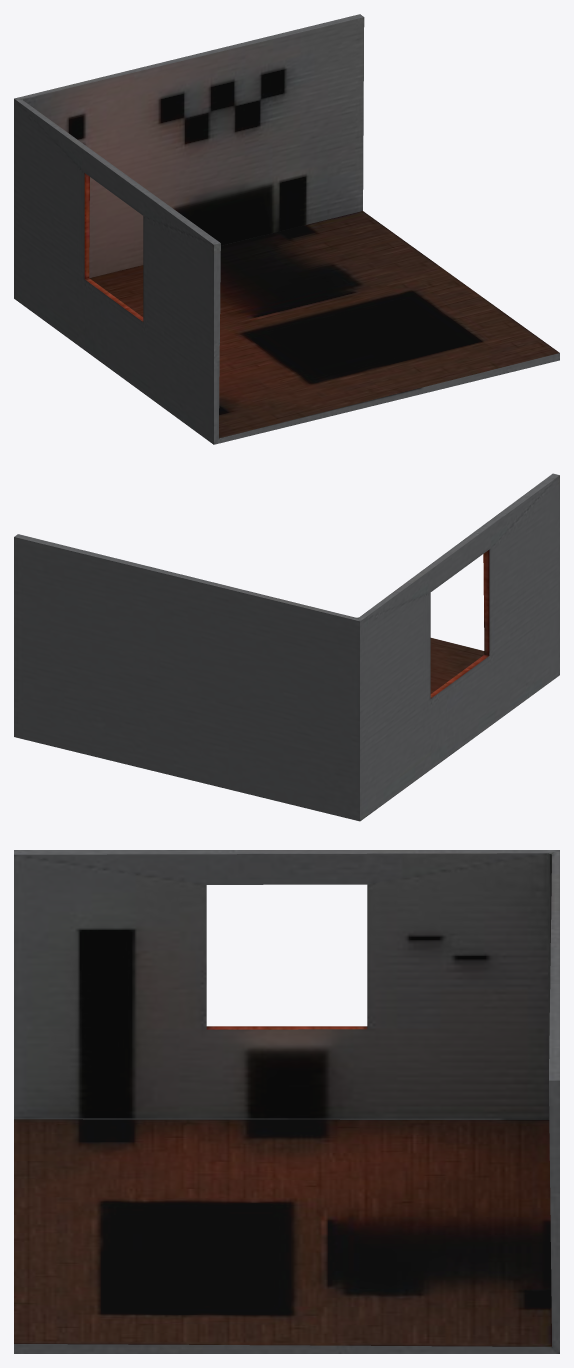
File: room.glb
3 renders of one model, top to bottom at view 1: azimuth 30°, elevation 25°; view 2: azimuth 150°, elevation 25°; view 3: azimuth 270°, elevation 25°, orthographic. The views are drawn at different scales.
Parts seen in each view (by area): view 1: room; view 2: room; view 3: room.
Boxes of the visible parts, x1,y1,x2,y2 form: room: (14,14,559,444); room: (14,473,559,821); room: (14,850,559,1353).
Bounding box in the file's own units: 4.8 × 2.65 × 4.8.
Materials: 2 (2 with a texture image).
